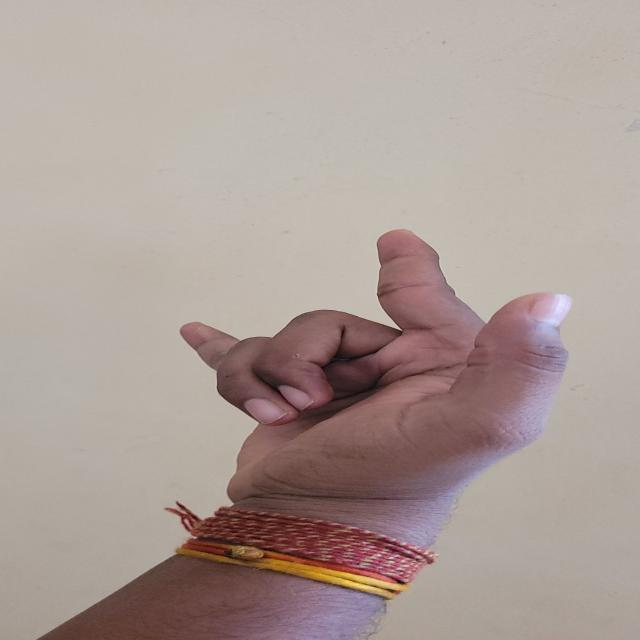i like you: (100, 189, 632, 517)
